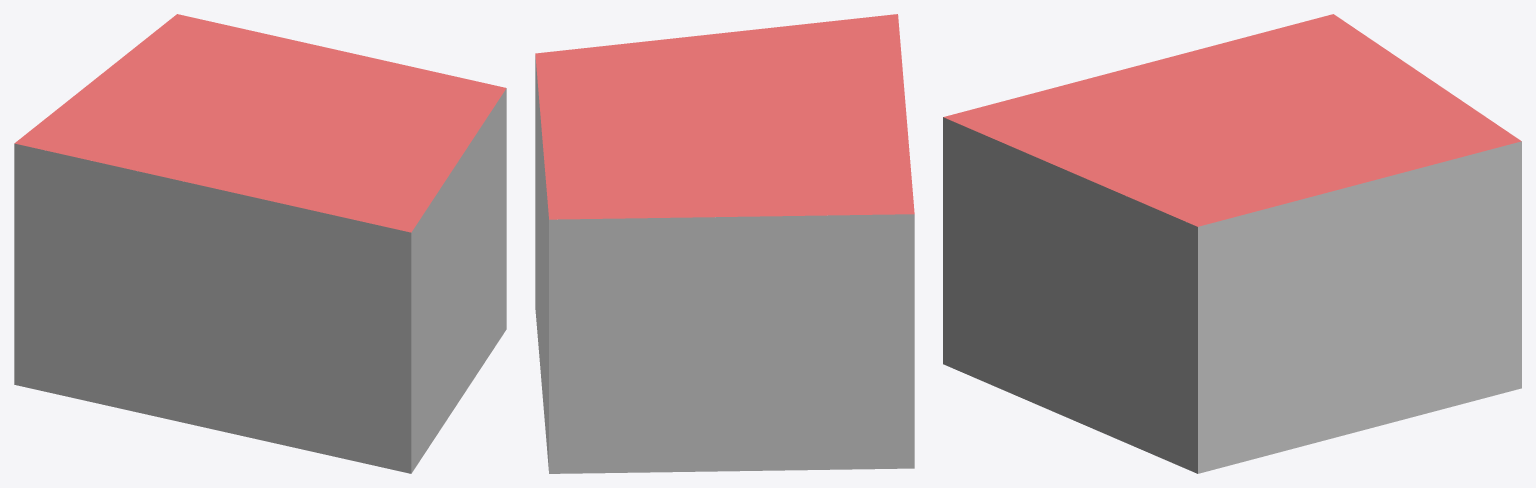
The model's file is ID_0eda3624-9e6e-455b-9d4a-6a5e871a04c9.gltf.
The picture shows the model from 3 angles, left to right: view 1: azimuth 30°, elevation 25°; view 2: azimuth 150°, elevation 25°; view 3: azimuth 270°, elevation 25°; orthographic projection. The views are drawn at different scales.
Parts seen in each view (by area): view 1: Z_UP; view 2: Z_UP; view 3: Z_UP.
Boxes of the visible parts, x1,y1,x2,y2 form: Z_UP: (14,14,506,473); Z_UP: (535,14,914,473); Z_UP: (943,14,1521,473).
Size of the model in its own units: 24.11 by 13.04 by 27.69.
